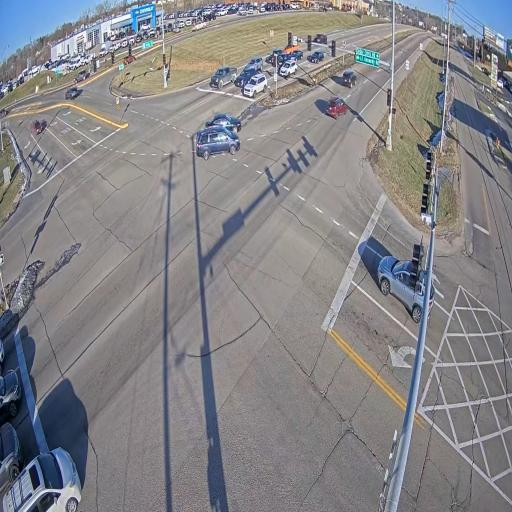pickup: (209, 66, 236, 89), (313, 33, 327, 44), (193, 22, 208, 31)
sedan: (205, 113, 241, 133), (308, 51, 324, 63), (31, 120, 43, 135), (287, 50, 303, 60), (65, 87, 78, 99)
suv: (377, 255, 426, 323), (0, 423, 24, 491), (0, 369, 21, 426), (242, 73, 267, 98), (235, 68, 257, 89), (427, 279, 436, 318), (279, 58, 297, 77), (266, 49, 283, 65), (342, 70, 357, 88), (246, 57, 263, 71), (74, 69, 88, 84), (123, 55, 136, 67), (86, 81, 86, 84)
van: (0, 447, 81, 512), (195, 127, 240, 160), (326, 97, 347, 119)
